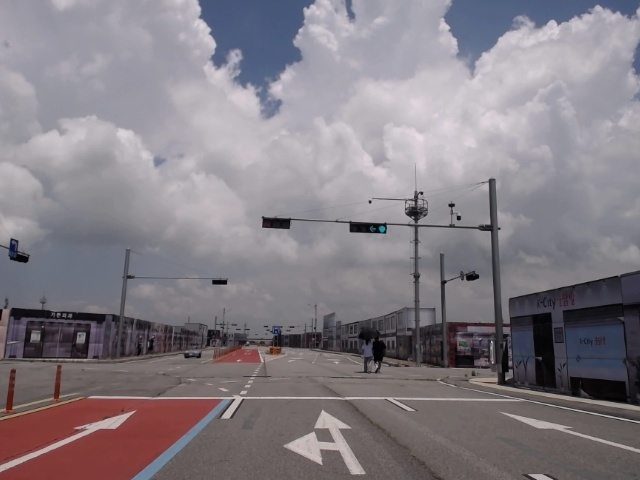all_green_4: (351, 221, 386, 233)
